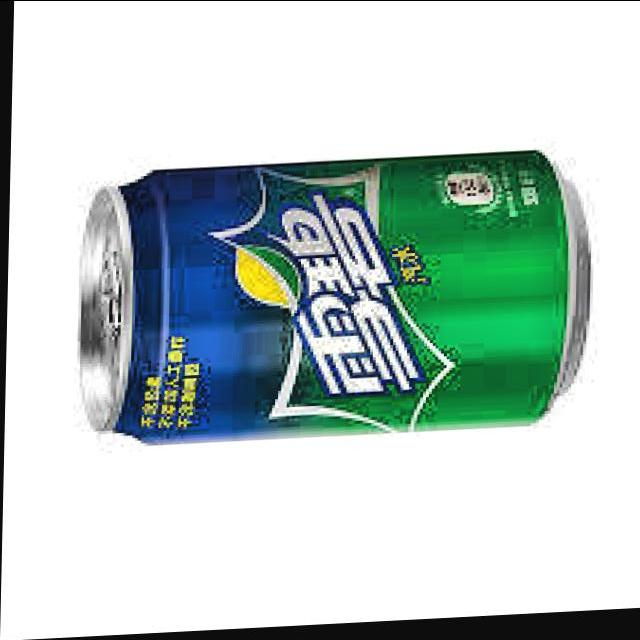Aluminum Can: (60, 135, 606, 470)
